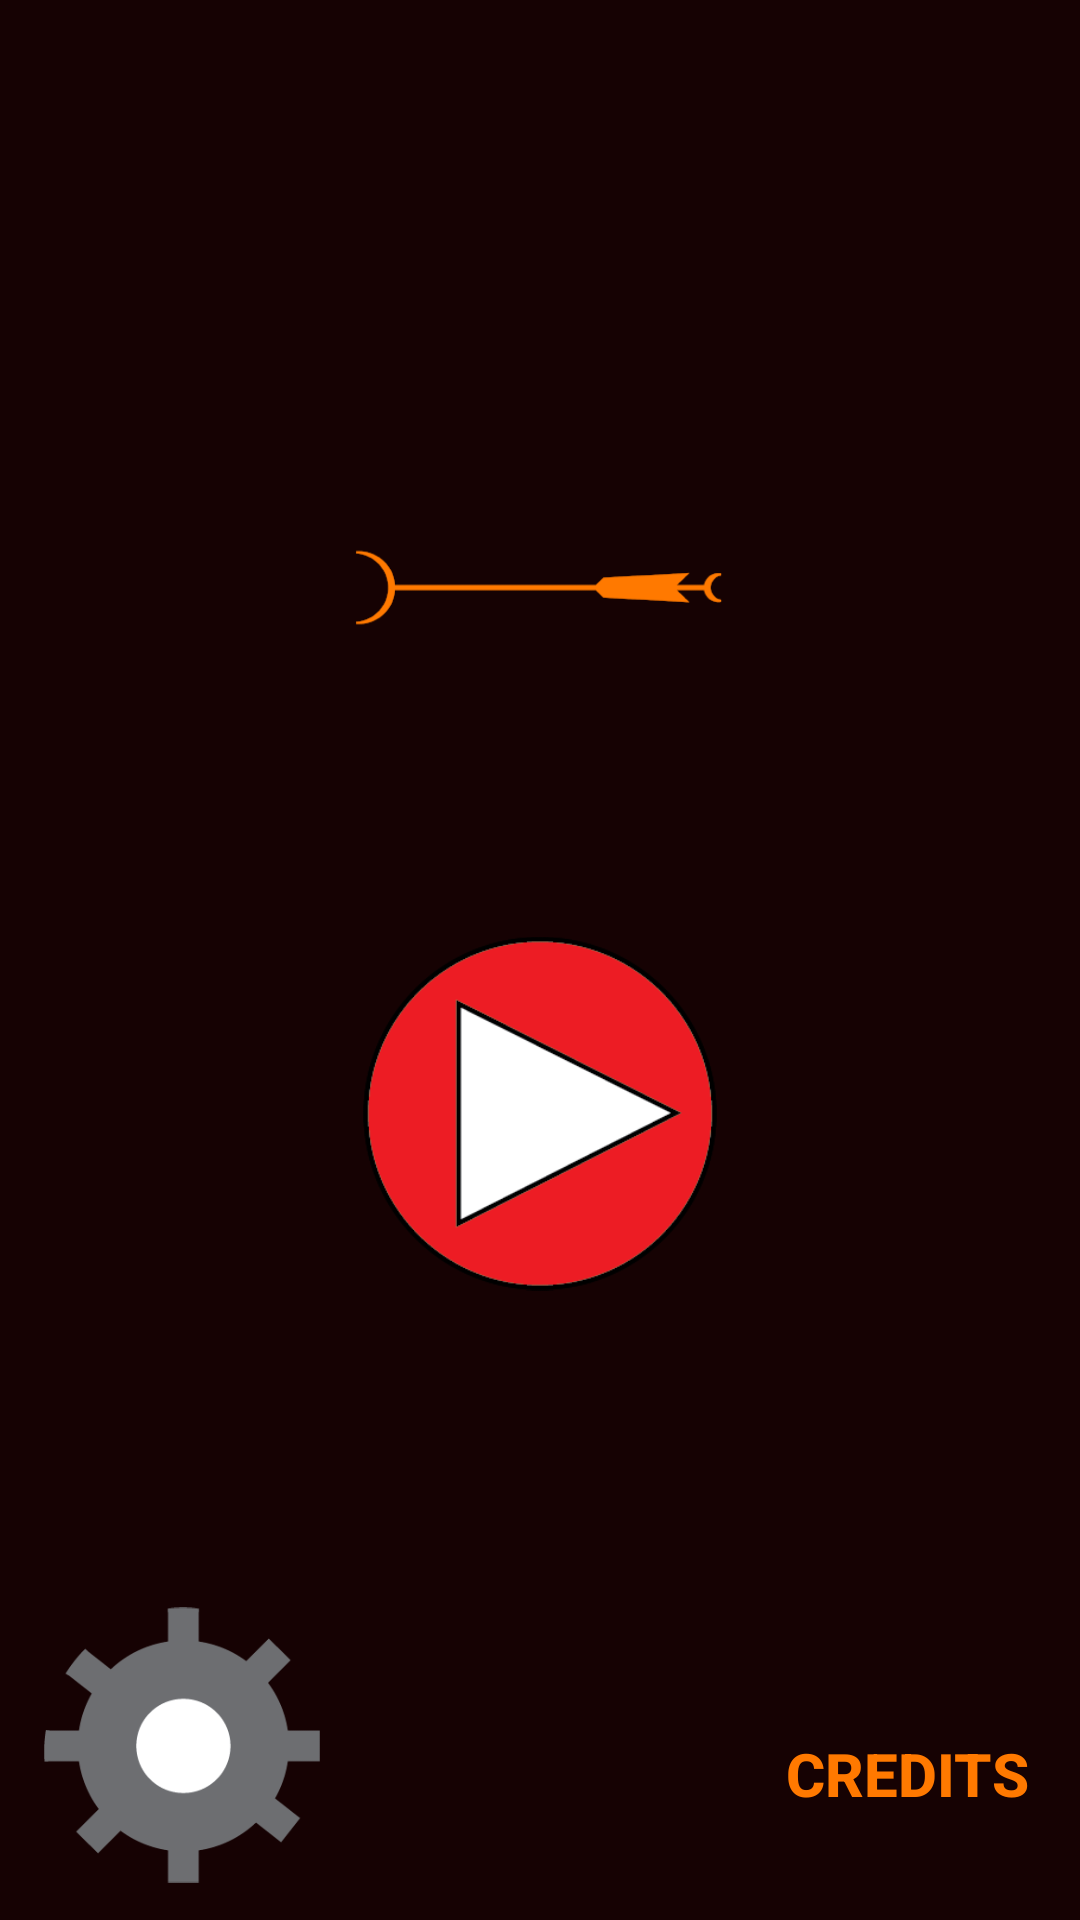

Where to tap for icons on this 1080*1920 app screen, as [x,y]:
playbutton: [540,1113]
settings: [182,1745]
